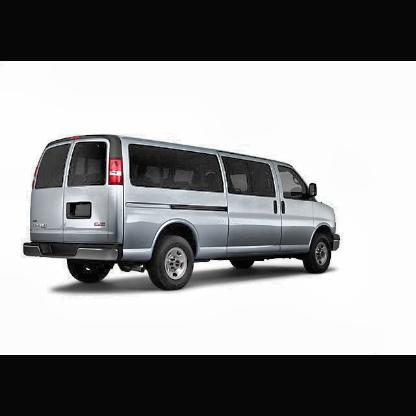GMC Savana Van 2012: (24, 134, 342, 293)
